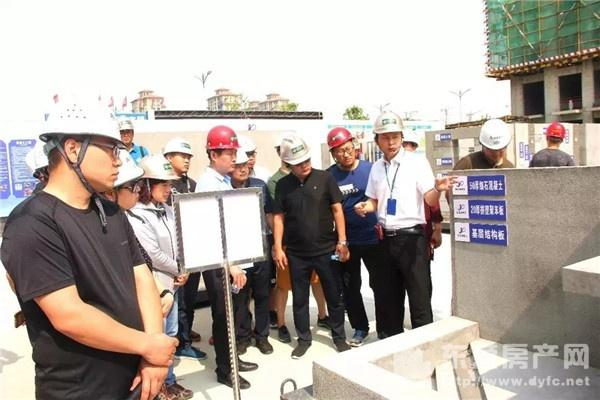Helmet: (48, 97, 125, 185)
NoVest: (370, 156, 438, 236)
